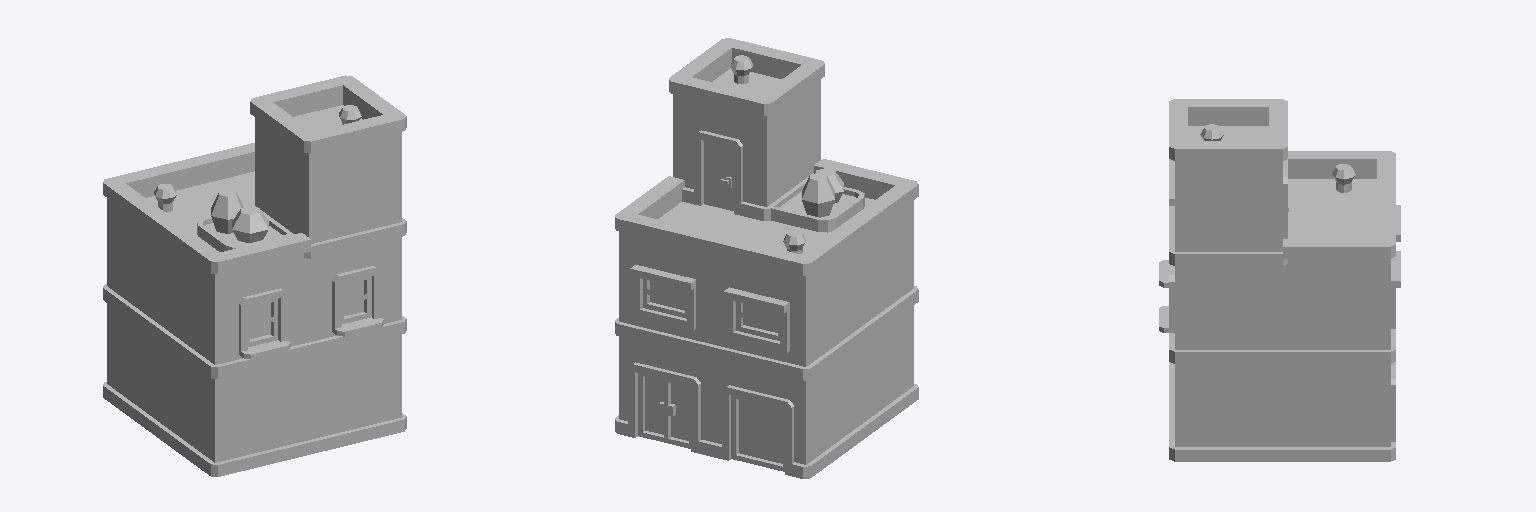
Rendered from building-d.obj.
3 renders of one model, left to right at view 1: azimuth 30°, elevation 25°; view 2: azimuth 150°, elevation 25°; view 3: azimuth 270°, elevation 25°, orthographic.
Visible parts, largest first — view 1: building-d; view 2: building-d; view 3: building-d.
Part boxes in pixels (x1,y1,x2,y2): building-d: (103, 75, 406, 476); building-d: (615, 38, 918, 478); building-d: (1159, 99, 1400, 461).
Bounding box in the file's own units: 0.84 × 1.29 × 0.9.